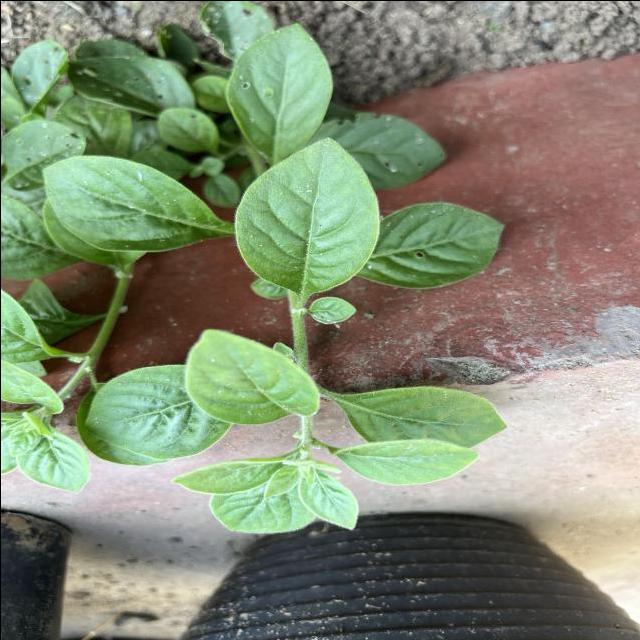Aerva lanata: (229, 134, 383, 302), (78, 361, 234, 462), (331, 382, 511, 449)
